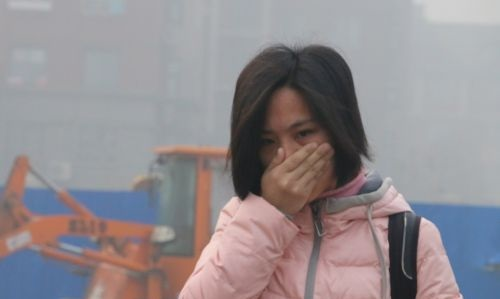face: (257, 92, 335, 203)
